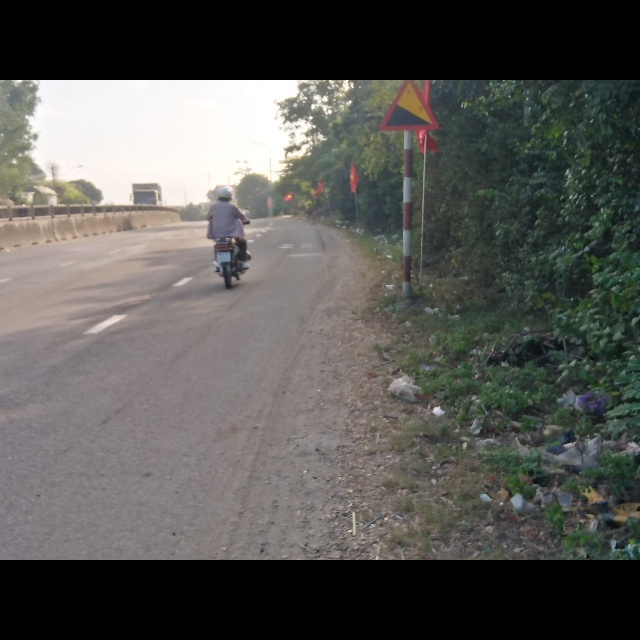Dốc lên nguy hiểm: (379, 79, 438, 132)
